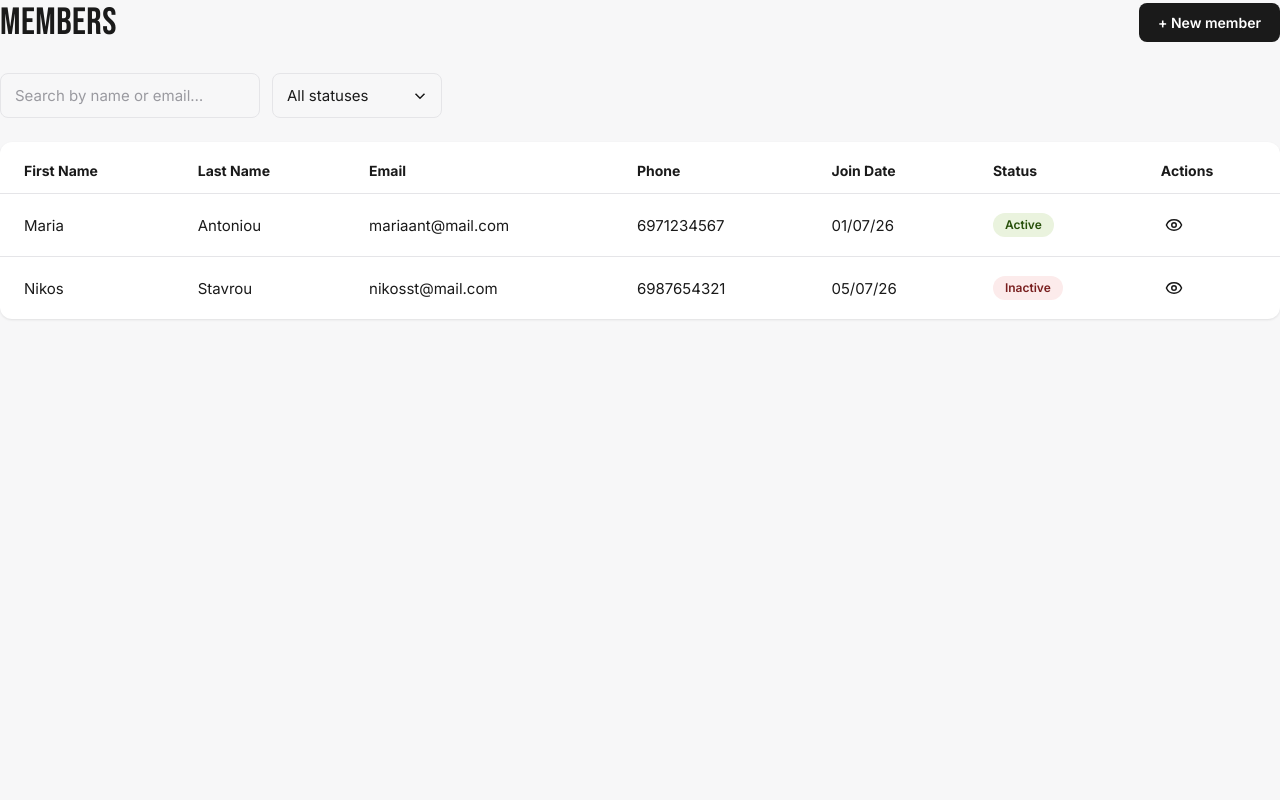
it: MemberListPage › masks the Date of Birth input as DD/MM/YYYY without a native date picker
Expected: the text "Antoniou" is shown, [174,194,345,256]
Click the button "+ New member" at x=1210, y=22, box [1139,3,1279,42]
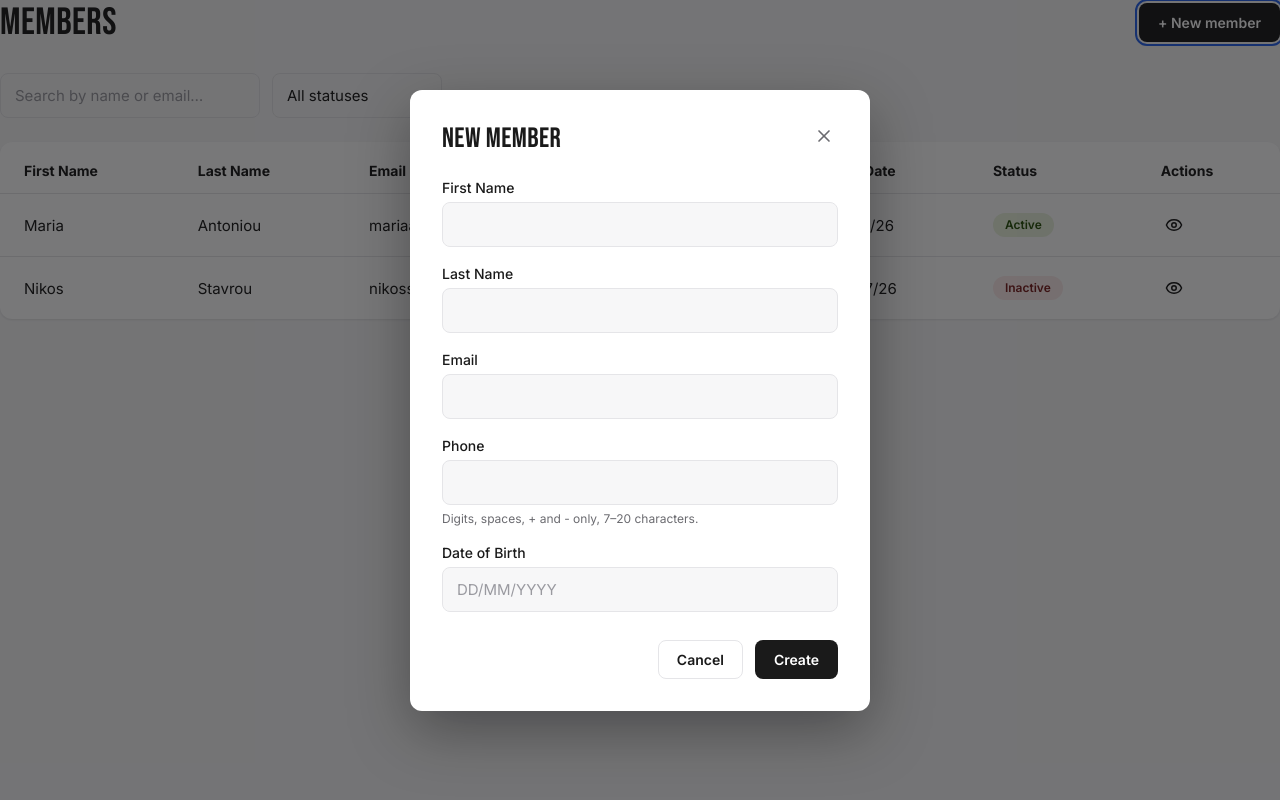
Type "15051994" into the field with placeholder "DD/MM/YYYY" at x=640, y=589, box [442,566,838,612]
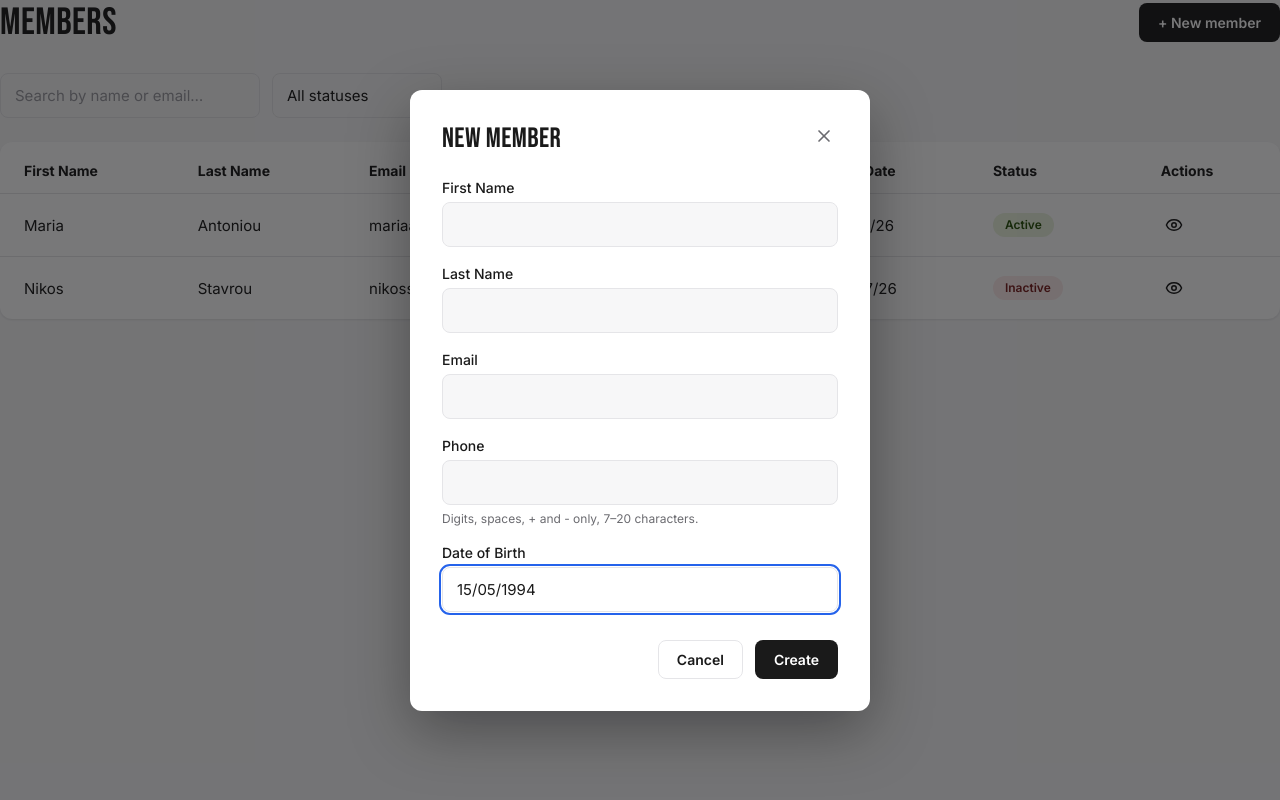
Result: the field with placeholder "DD/MM/YYYY" holds "15/05/1994" at [442,566,838,612]
